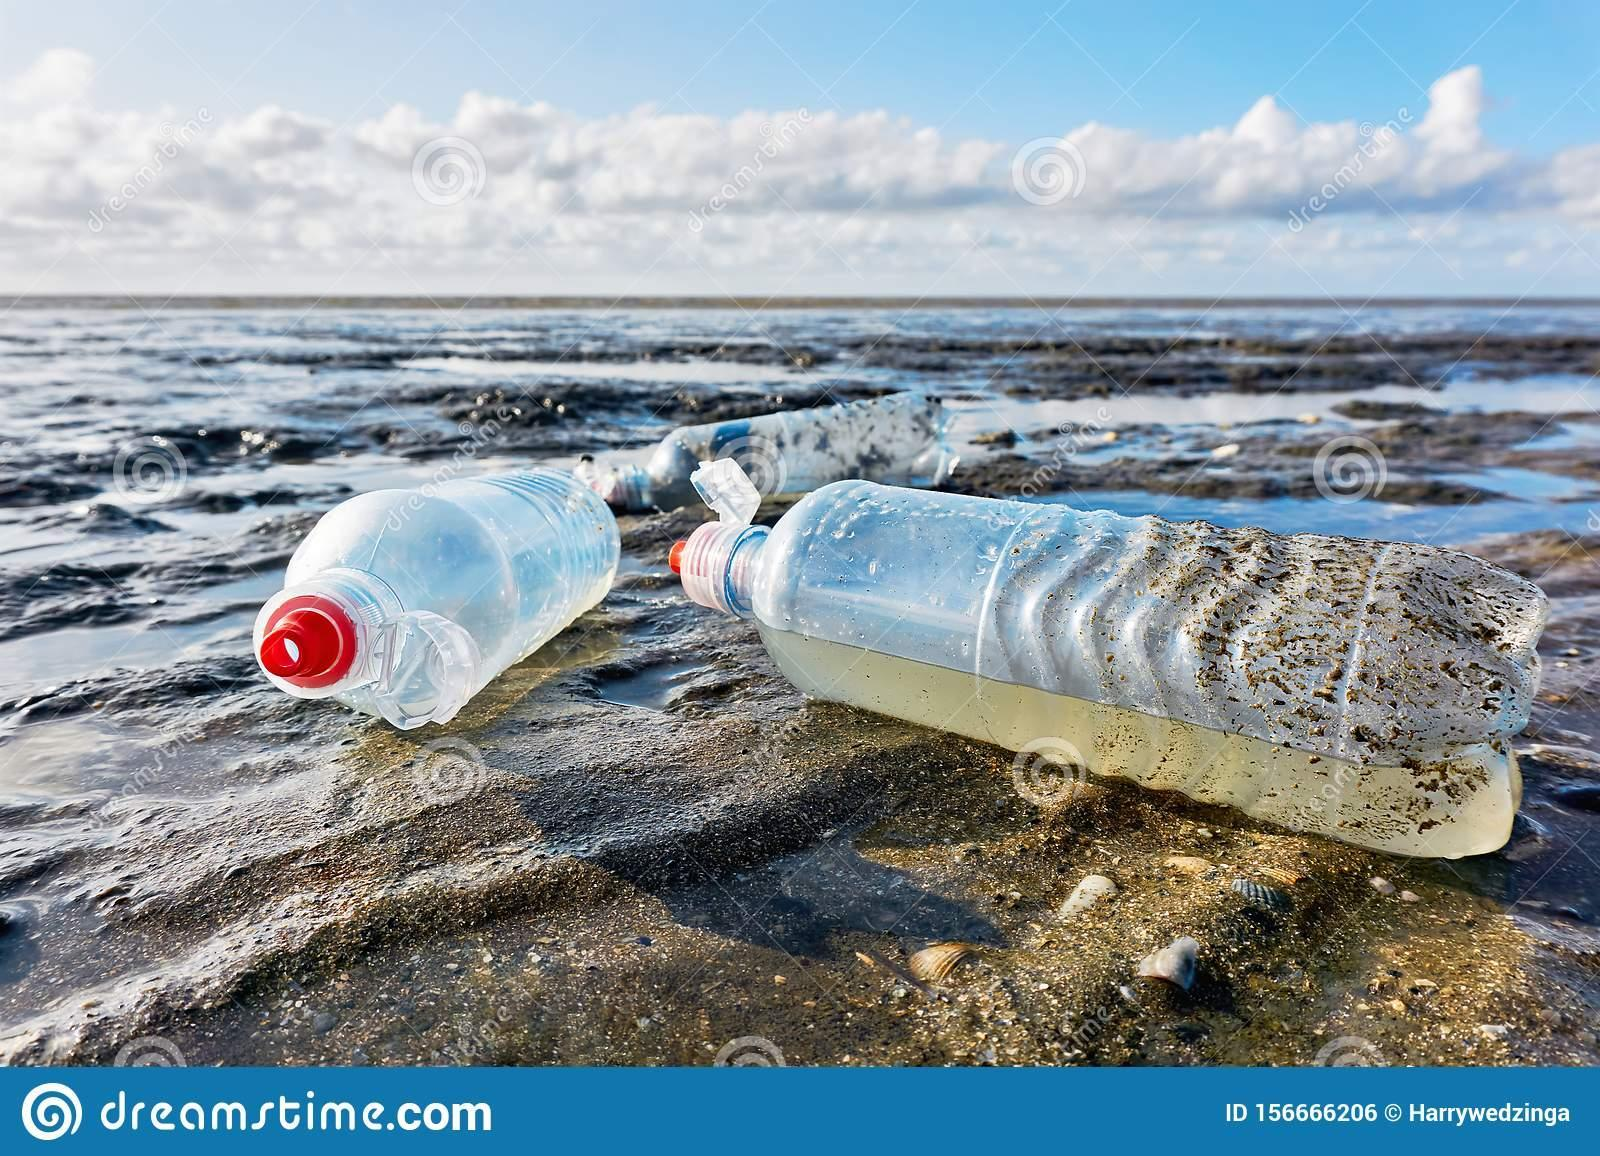bottle: (651, 394, 1559, 892), (231, 472, 641, 747), (612, 390, 964, 505)
